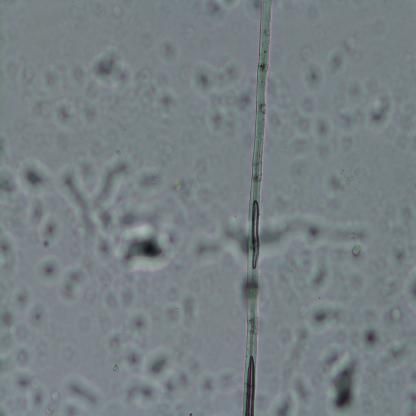Background material: (101, 331, 194, 409), (191, 60, 249, 138), (116, 211, 178, 283), (258, 214, 369, 249), (60, 171, 96, 249), (92, 144, 133, 206), (36, 256, 86, 303), (56, 370, 103, 416), (273, 158, 309, 218), (267, 368, 312, 416), (332, 356, 364, 414), (305, 302, 350, 338), (160, 289, 198, 329), (364, 86, 395, 134), (94, 202, 119, 260), (17, 159, 54, 197), (281, 320, 307, 374), (38, 61, 86, 90), (92, 49, 133, 81), (312, 112, 335, 166), (394, 92, 416, 148), (202, 368, 243, 398), (309, 251, 333, 299), (358, 305, 383, 351), (192, 231, 226, 264), (376, 338, 412, 369), (18, 371, 46, 410), (79, 80, 100, 127), (224, 220, 249, 258), (136, 165, 164, 197), (51, 96, 77, 130), (323, 42, 348, 76), (399, 268, 416, 314), (338, 265, 364, 294), (153, 84, 179, 113), (40, 214, 60, 248), (106, 282, 134, 306), (303, 60, 325, 90), (128, 310, 152, 337), (2, 346, 31, 367), (156, 40, 179, 66), (0, 164, 18, 197), (137, 66, 151, 108), (201, 0, 234, 17), (166, 174, 186, 201), (335, 165, 360, 185), (272, 107, 288, 136), (241, 0, 264, 20), (390, 244, 411, 265), (289, 111, 308, 134), (328, 175, 346, 199), (3, 235, 15, 270), (323, 347, 342, 369), (383, 306, 403, 326), (0, 304, 16, 329), (29, 303, 48, 324), (17, 66, 35, 86), (30, 198, 44, 223), (400, 203, 414, 227), (110, 0, 125, 21), (16, 286, 30, 306), (352, 240, 364, 260), (302, 97, 315, 113), (301, 46, 313, 61), (399, 50, 411, 63), (49, 390, 60, 404), (354, 186, 361, 197)
Cotton: (243, 1, 274, 415)
